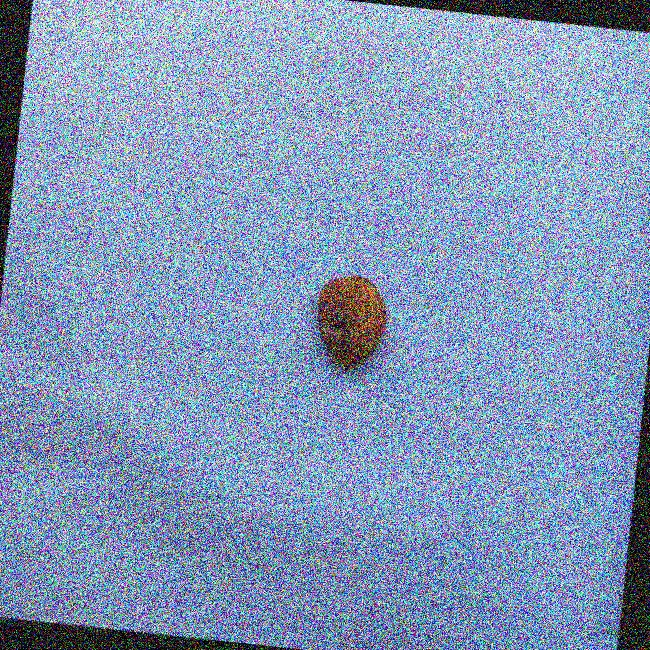grade3: (306, 268, 393, 375)
